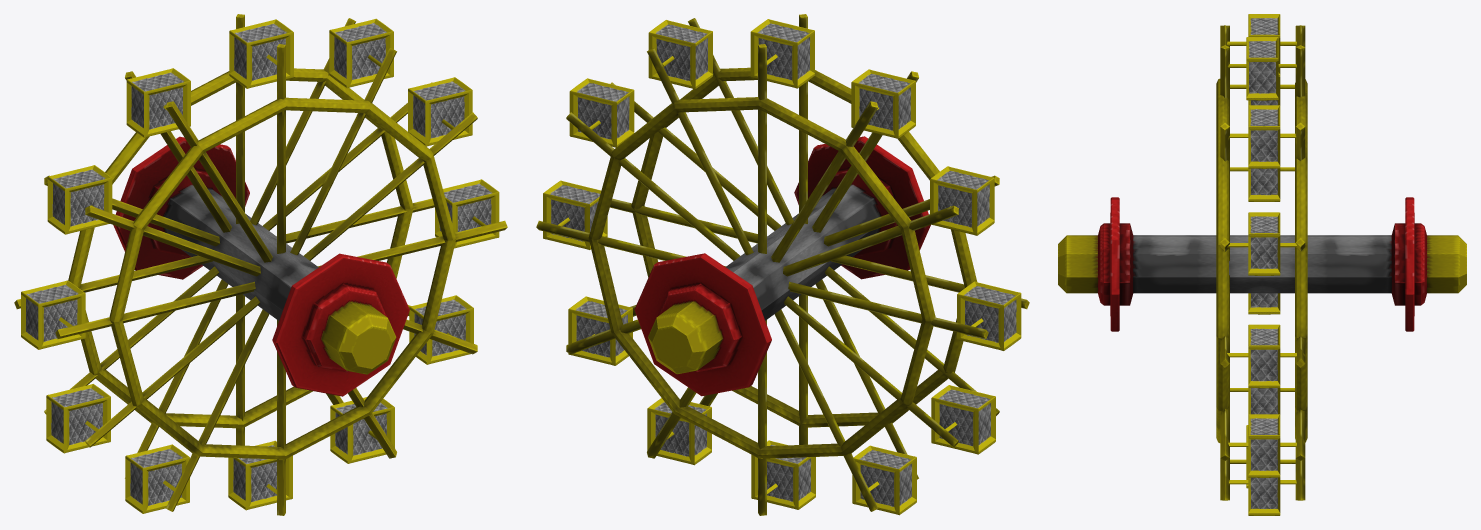
Rendered from mawaru.fbx.
3 renders of one model, left to right at view 1: azimuth 30°, elevation 25°; view 2: azimuth 150°, elevation 25°; view 3: azimuth 270°, elevation 25°, orthographic. The views are drawn at different scales.
Parts seen in each view (by area): view 1: UV1; view 2: UV1; view 3: UV1.
Boxes of the visible parts, <box> form: UV1: <box>14,14,507,515</box>; UV1: <box>536,14,1029,515</box>; UV1: <box>1058,14,1466,515</box>.
Size of the model in its own units: 327 by 317 by 272.
2 materials, 2 textured.
